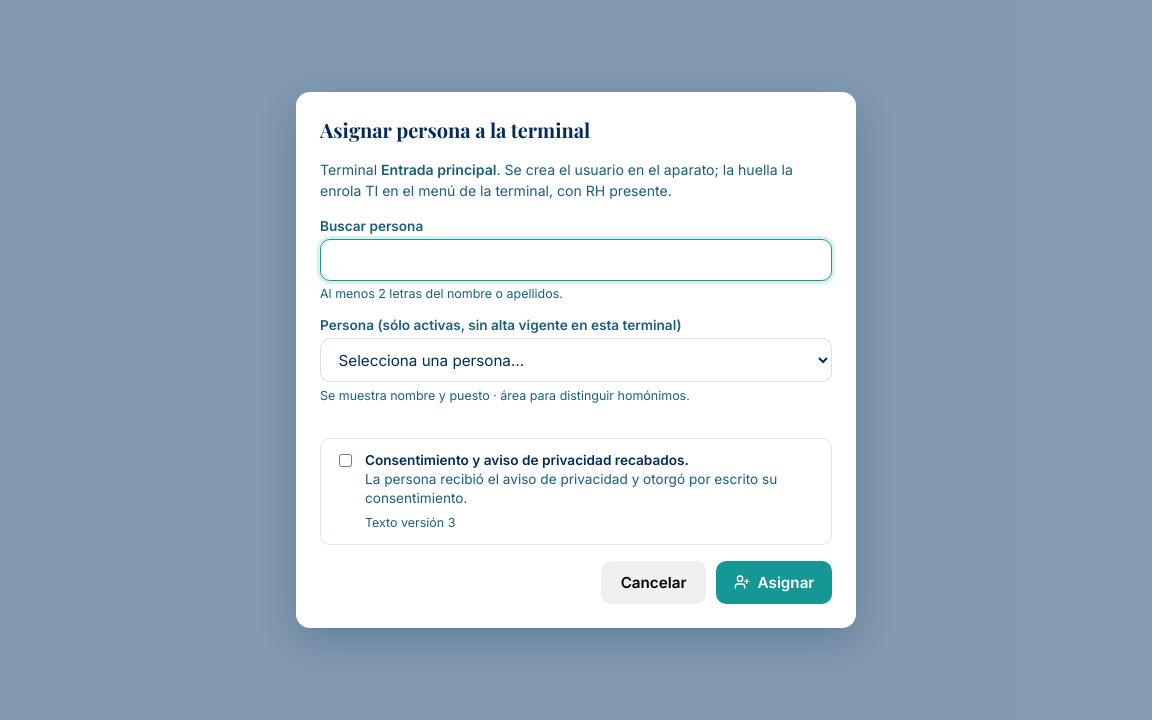
AsignarPersonaTerminalModal › no envía sin persona ni sin confirmar el consentimiento y marca el campo
Check: the text "La persona recibió el aviso de privacidad y otorgó por escrito su consentimiento." is shown, box [365,471,777,506]
Click the button "Asignar" at (774, 582), box [716,561,832,604]
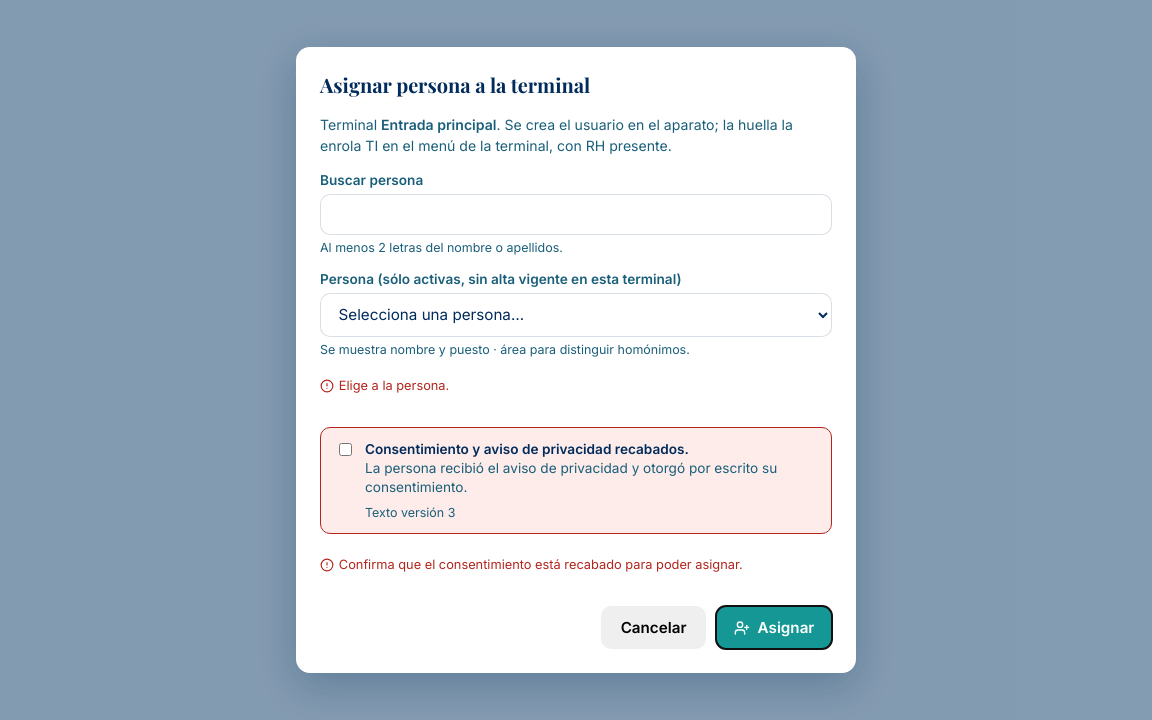
Check: the text "Elige a la persona." is shown, box [320,378,449,393]
Check: the text "Confirma que el consentimiento está recabado para poder asignar" is shown, box [339,557,743,572]
